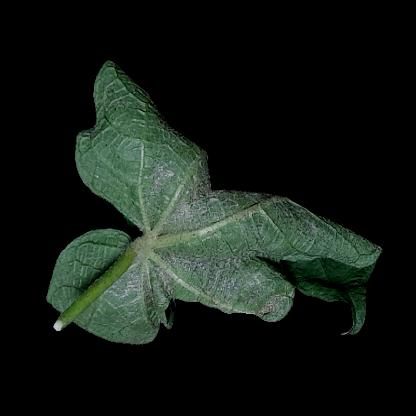curl_stage2: (165, 203, 263, 303), (78, 234, 165, 332), (269, 209, 345, 297), (101, 115, 165, 203), (167, 135, 199, 201)
